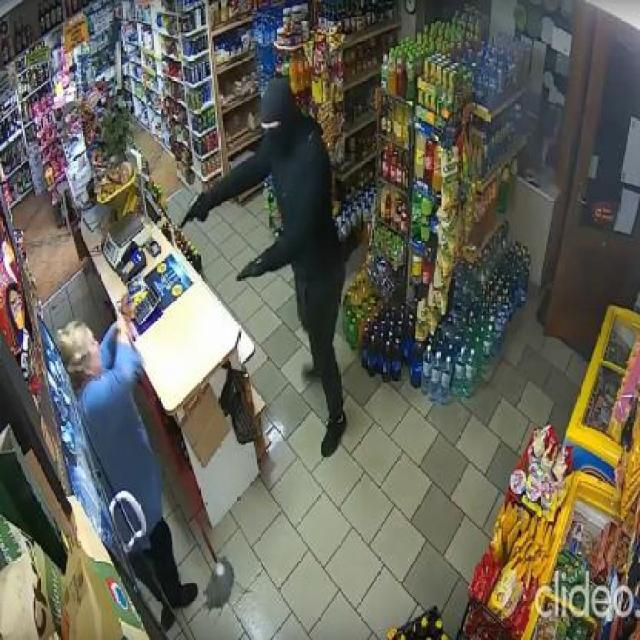weapon: (174, 190, 213, 238)
